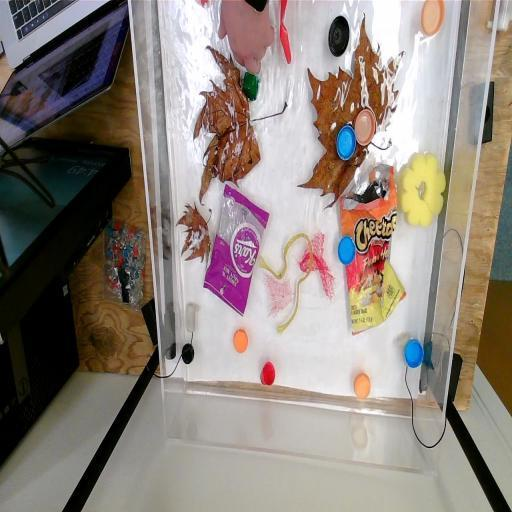Bottle Cap: (326, 18, 352, 60), (418, 0, 445, 37), (336, 124, 356, 167), (355, 106, 375, 148), (404, 336, 424, 377), (335, 234, 358, 268), (240, 74, 266, 104), (350, 370, 372, 402), (231, 326, 253, 355), (179, 341, 196, 367)
Cone Cap: (257, 359, 278, 390)
Leaf: (302, 24, 400, 198), (186, 64, 290, 192), (176, 200, 216, 265)
Netting: (296, 231, 338, 303), (262, 270, 294, 325)
Plastic Bag: (340, 168, 406, 336), (202, 183, 272, 322)
Plastic Strand: (254, 228, 318, 342), (276, 0, 294, 68)
Sponge: (397, 152, 447, 231)
